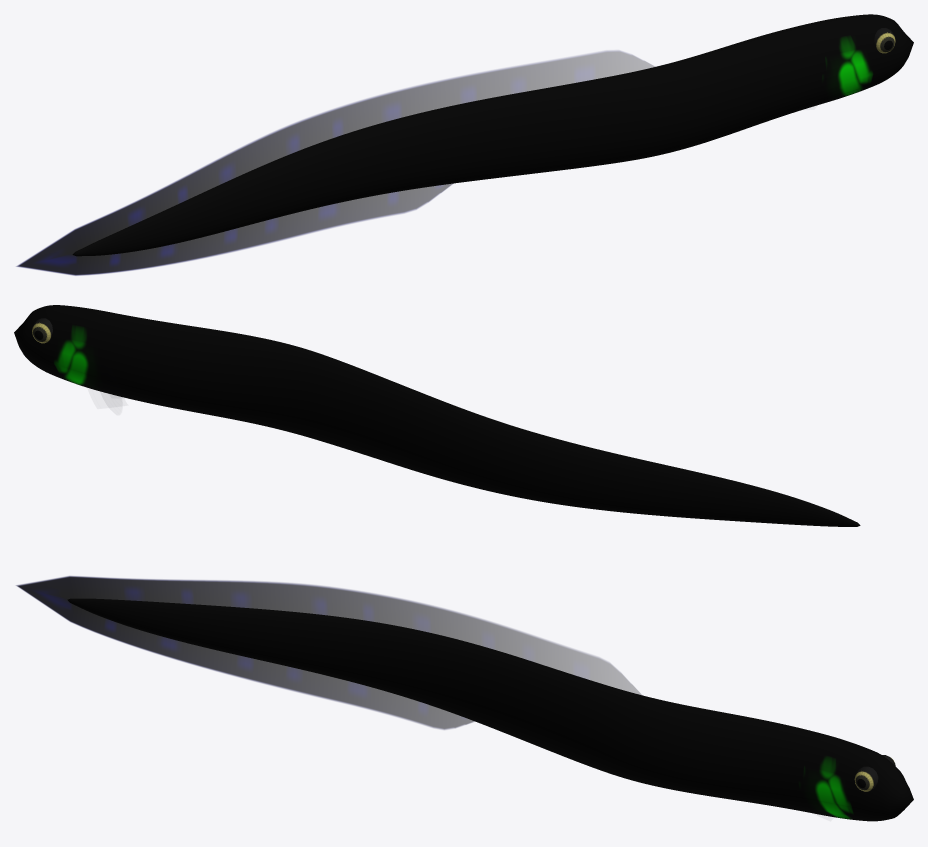
File: engineer_goby.glb
The picture shows the model from 3 angles, top to bottom: view 1: azimuth 30°, elevation 25°; view 2: azimuth 150°, elevation 25°; view 3: azimuth 330°, elevation 25°; orthographic projection.
Parts seen in each view (by area): view 1: Body, FinDorsal; view 2: Body; view 3: Body, FinDorsal.
Boxes of the visible parts, bbox=[...] form: Body: bbox=[72, 14, 913, 256]; FinDorsal: bbox=[16, 50, 655, 275]; Body: bbox=[14, 305, 860, 526]; Body: bbox=[67, 598, 913, 821]; FinDorsal: bbox=[16, 576, 641, 729].
Size of the model in its own units: 1 by 0.1393 by 0.1148.
4 materials, 3 textured.
